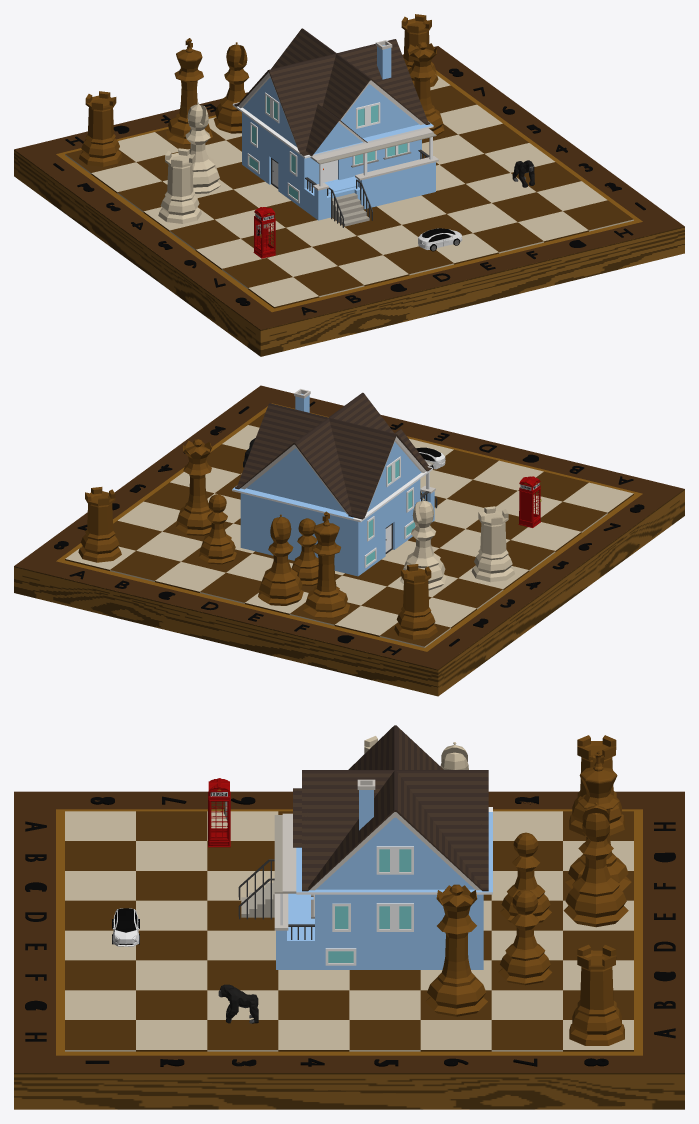
The picture shows the model from 3 angles, top to bottom: view 1: azimuth 30°, elevation 25°; view 2: azimuth 150°, elevation 25°; view 3: azimuth 270°, elevation 25°; orthographic projection. The views are drawn at different scales.
Visible parts, largest first — view 1: Cube.002, Cube.1594, OBJRANDOM_PHONEBOOTH, VEHICLES_TESLA; view 2: Cube.002, Cube.1594, OBJRANDOM_PHONEBOOTH; view 3: Cube.002, Cube.1594, OBJRANDOM_PHONEBOOTH, VEHICLES_TESLA, ANIMAL_GORILA.
Part boxes in pixels (bbox=[...]): Cube.002: bbox=[14, 14, 684, 356]; Cube.1594: bbox=[232, 28, 438, 227]; OBJRANDOM_PHONEBOOTH: bbox=[253, 207, 275, 258]; VEHICLES_TESLA: bbox=[418, 228, 462, 251]; Cube.002: bbox=[14, 385, 684, 696]; Cube.1594: bbox=[232, 389, 437, 576]; OBJRANDOM_PHONEBOOTH: bbox=[518, 476, 541, 527]; Cube.002: bbox=[14, 735, 684, 1109]; Cube.1594: bbox=[238, 725, 492, 969]; OBJRANDOM_PHONEBOOTH: bbox=[208, 778, 230, 847]; VEHICLES_TESLA: bbox=[112, 908, 139, 946]; ANIMAL_GORILA: bbox=[218, 984, 258, 1023].
Bounding box in the file's own units: 3981 × 1488 × 4012.
39 materials, 2 textured.
